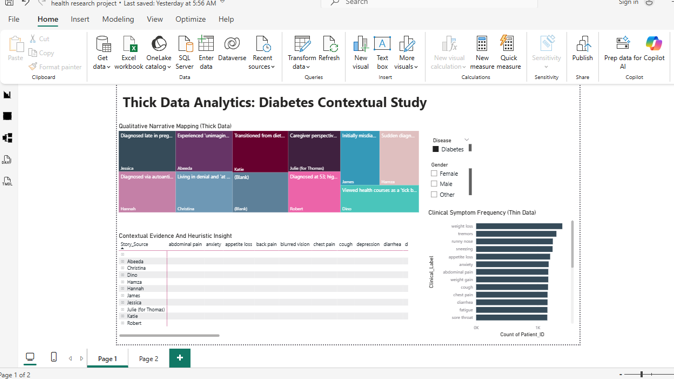

The page's visual inventory and layout, read from the dashboard file:
{"tool":"powerbi","page":{"name":"Page 1","canvas":[1280,720],"ordinal":0},"visuals":[{"type":"treemap","title":"Qualitative Narrative Mapping (Thick Data)","fields":{"Values":["CountNonNull(health_research_view.Patient_ID)"],"Group":["health_research_view.Thick_Data_Context"],"Details":["health_research_view.Story_Source"]},"box":[0,106.1,839.5,253.9],"z":0},{"type":"slicer","fields":{"Values":["health_research_view.Disease"]},"box":[860.4,143.4,125.5,52.3],"z":1000},{"type":"slicer","fields":{"Values":["health_research_view.Gender"]},"box":[855.9,210.6,130,113.5],"z":2000},{"type":"clusteredBarChart","title":"Clinical Symptom Frequency (Thin Data)","fields":{"Category":["health_research_view.Clinical_Label"],"Y":["CountNonNull(health_research_view.Patient_ID)"]},"box":[855.9,345.1,412.3,360],"z":3000},{"type":"pivotTable","title":"Contextual Evidence And Heuristic Insight","fields":{"Rows":["health_research_view.Story_Source","health_research_view.Gender","health_research_view.Thick_Data_Context"],"Columns":["health_research_view.Clinical_Label"]},"box":[0,409.3,809.6,295.8],"z":4000},{"type":"textbox","box":[10.5,19.4,866.4,68.7],"z":5000}]}

Visuals, with their boxes on the page's 1280x720 design canvas (x1, y1, x2, y2). These are canvas units, not pixel positions in the 674x379 screenshot, which may show the page scaled, cropped or inside an application window:
"Qualitative Narrative Mapping (Thick Data)" treemap: box(0, 106, 840, 360)
slicer - health_research_view.Disease: box(860, 143, 986, 196)
slicer - health_research_view.Gender: box(856, 211, 986, 324)
"Clinical Symptom Frequency (Thin Data)" clusteredBarChart: box(856, 345, 1268, 705)
"Contextual Evidence And Heuristic Insight" pivotTable: box(0, 409, 810, 705)
textbox: box(10, 19, 877, 88)
